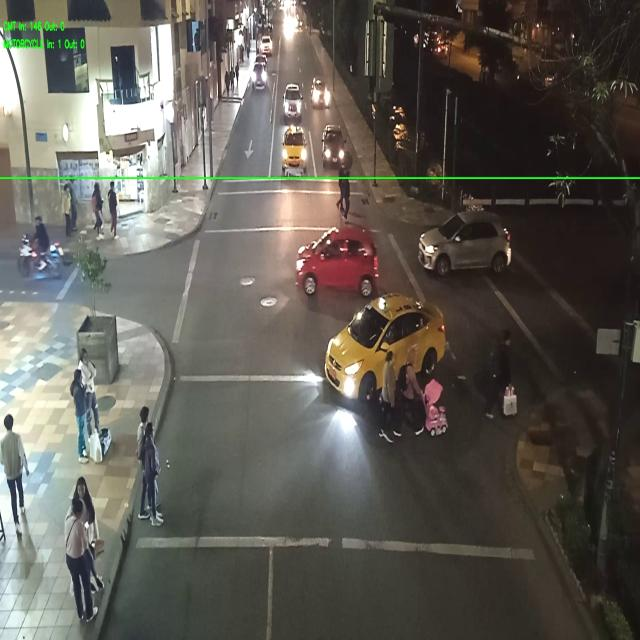MOTORCYCLE: (17, 241, 65, 282)
SED: (329, 299, 437, 393), (300, 235, 377, 291), (283, 130, 306, 171), (323, 128, 342, 166)
SUV: (421, 216, 507, 270), (284, 84, 300, 119), (253, 66, 266, 88), (261, 36, 272, 56)
